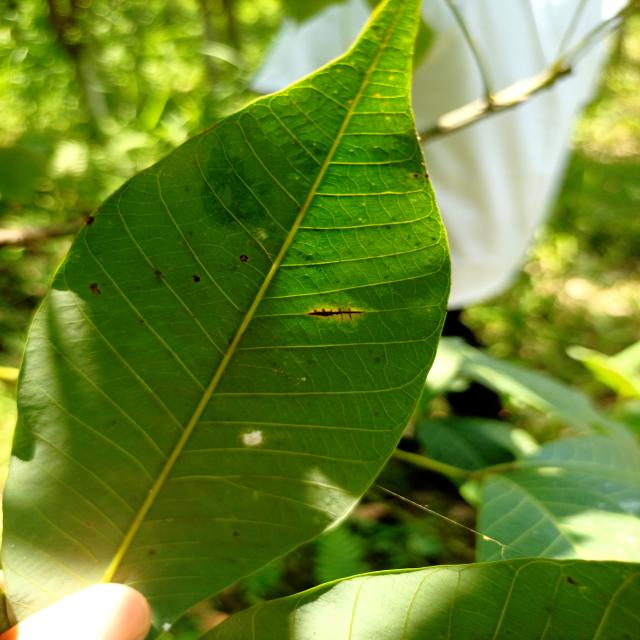Colletotrichum: (191, 274, 202, 283), (240, 255, 250, 262), (413, 174, 418, 178)
Corynespora: (307, 307, 366, 322)
